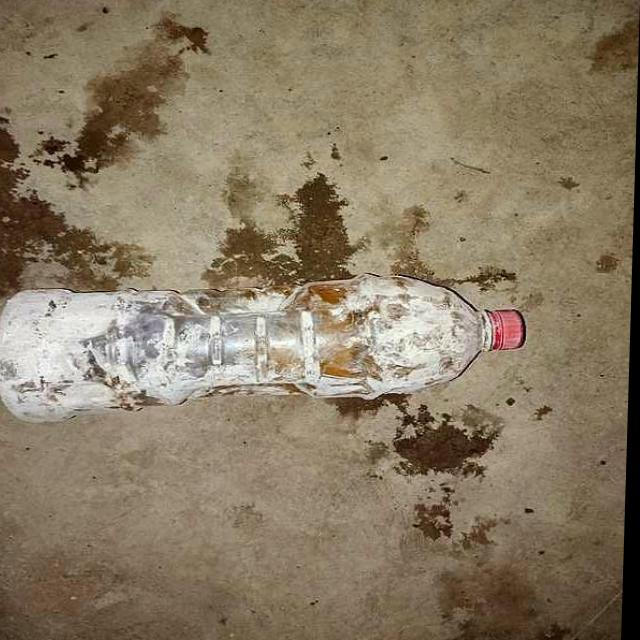Non-biodegradable: (1, 279, 529, 425)
